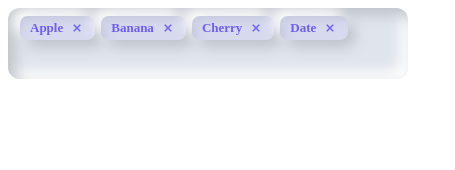
Test: MultiSelect › shows empty state when all options are selected
Click the dropdown. click: (208, 58)
box: [20, 46, 396, 71]
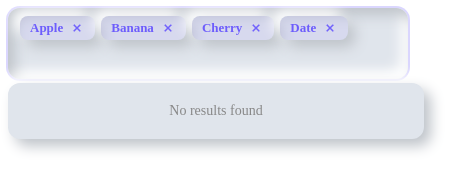
Result: the text "No results found" is shown at [169, 103, 263, 118]
